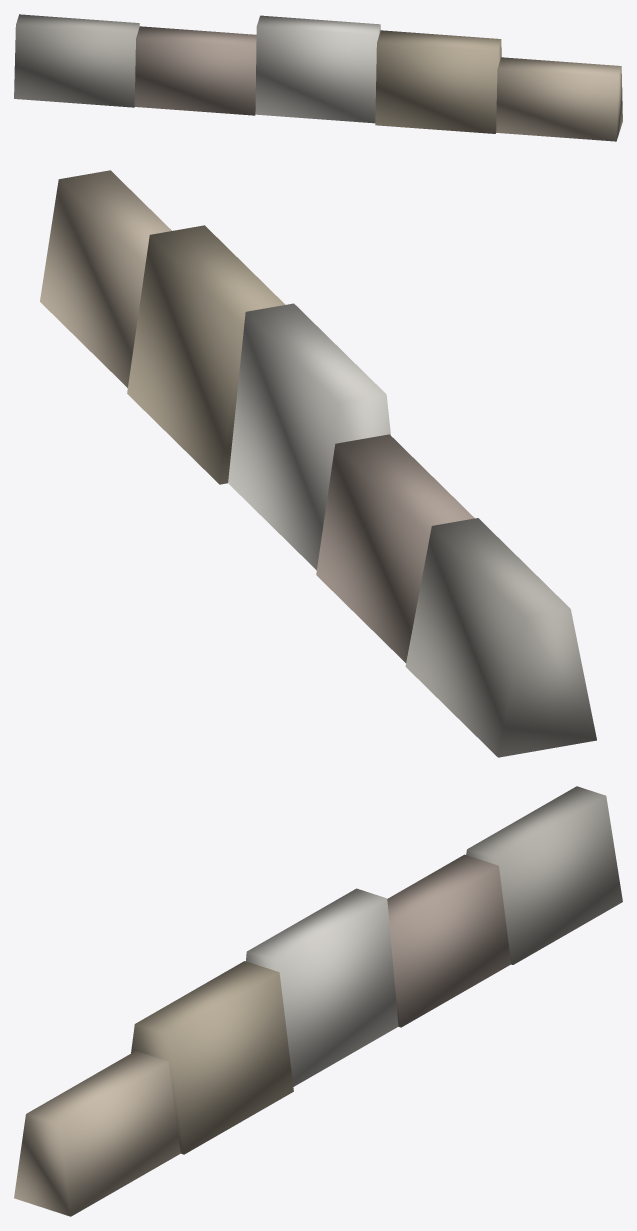
The model's file is farm_22_18_collision.glb.
3 renders of one model, top to bottom at view 1: azimuth 30°, elevation 25°; view 2: azimuth 150°, elevation 25°; view 3: azimuth 270°, elevation 25°, orthographic. The views are drawn at different scales.
Visible parts, largest first — view 1: geometry_0; view 2: geometry_0; view 3: geometry_0.
Part boxes in pixels (box(x1,y1,x2,y2)): geometry_0: box(14, 14, 622, 141); geometry_0: box(40, 170, 596, 757); geometry_0: box(14, 786, 622, 1216).
Bounding box in the file's own units: 6.73 × 1.31 × 5.4.
